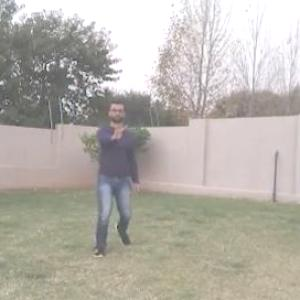takeoff-hand: (110, 120, 130, 146)
